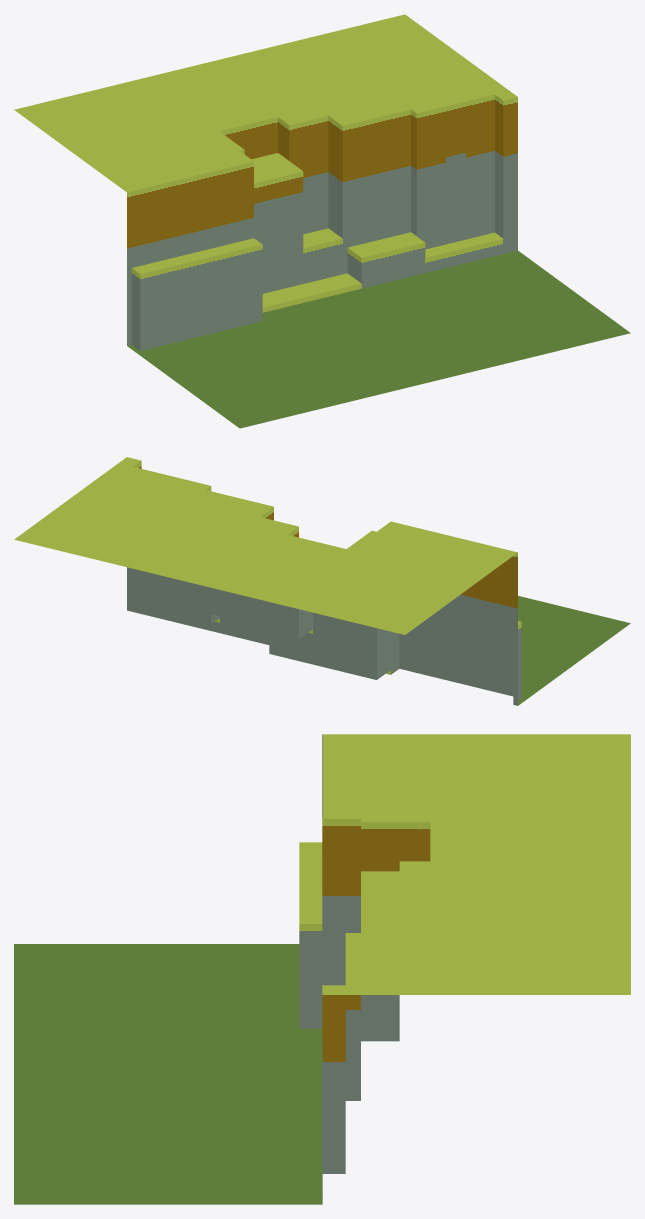
The model's file is MMLL(2).glb.
3 views of the same model, one above another, from view 1: azimuth 30°, elevation 25°; view 2: azimuth 150°, elevation 25°; view 3: azimuth 270°, elevation 25° (orthographic). The views are drawn at different scales.
Visible parts, largest first — view 1: model_0.015; view 2: model_0.015; view 3: model_0.015.
Part boxes in pixels (x1,y1,x2,y2): model_0.015: (14, 14, 630, 428); model_0.015: (14, 457, 630, 705); model_0.015: (14, 734, 630, 1204).
Bounding box in the file's own units: 80 × 30 × 80.
Materials: 1 (1 with a texture image).
